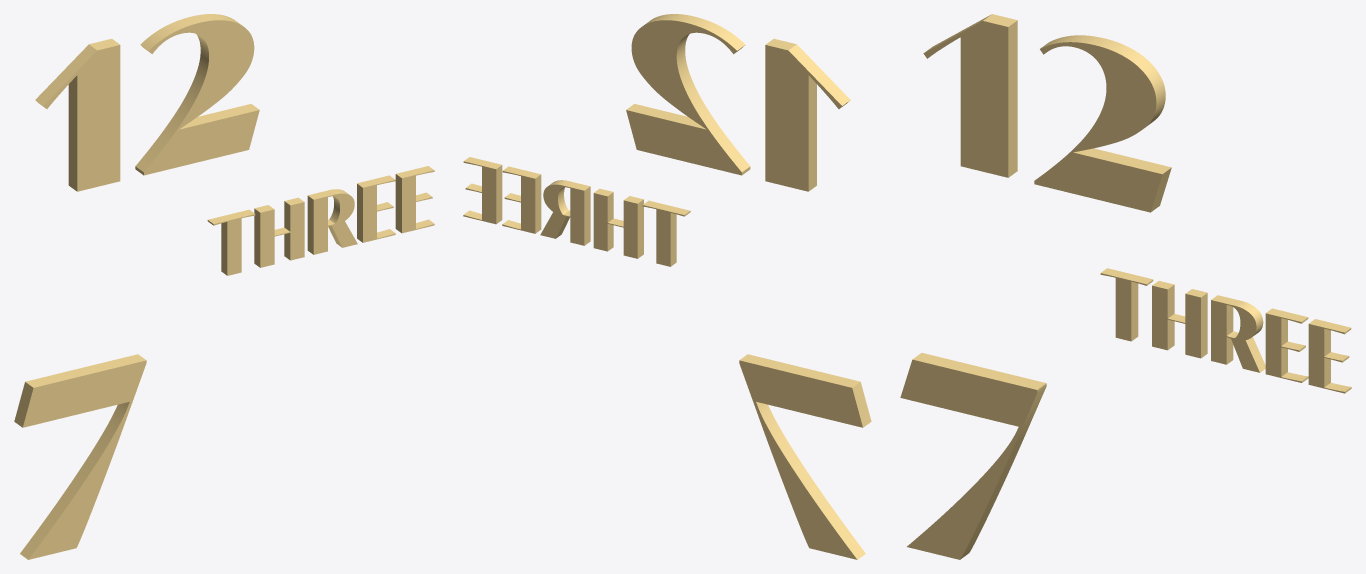
Rendered from animated_clock_parts.glb.
3 views of the same model, side by side, from view 1: azimuth 30°, elevation 25°; view 2: azimuth 150°, elevation 25°; view 3: azimuth 330°, elevation 25° (orthographic). The views are drawn at different scales.
Parts seen in each view (by area): view 1: 12, 7, THREE; view 2: 12, 7, THREE; view 3: 12, THREE, 7.
Boxes of the visible parts, x1,y1,x2,y2 form: 12: (35, 14, 259, 191); 7: (14, 354, 146, 559); THREE: (207, 166, 434, 275); 12: (626, 14, 850, 191); 7: (739, 354, 871, 559); THREE: (463, 157, 690, 266); 12: (923, 14, 1171, 212); THREE: (1100, 268, 1351, 393); 7: (900, 353, 1046, 559).
Size of the model in its own units: 1.14 by 1.33 by 0.0654.
1 material, 1 textured.
